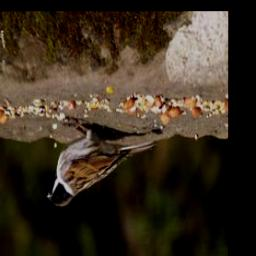Sparrow: (44, 119, 155, 209)
